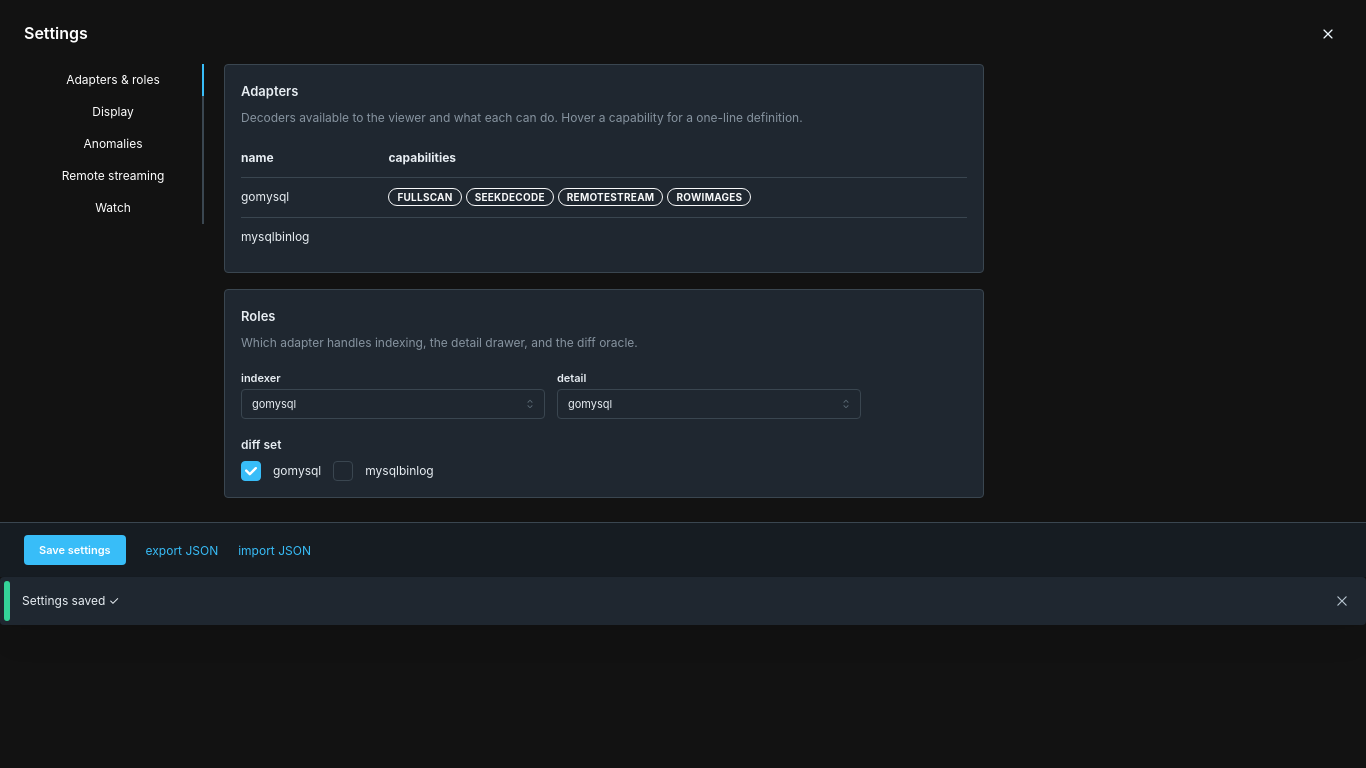
Test: SettingsView › switches to Remote streaming tab and shows host/password fields
This screenshot has width=1366, height=768.
Click the tab "Remote streaming" at (114, 176), box [24,160,204,192]
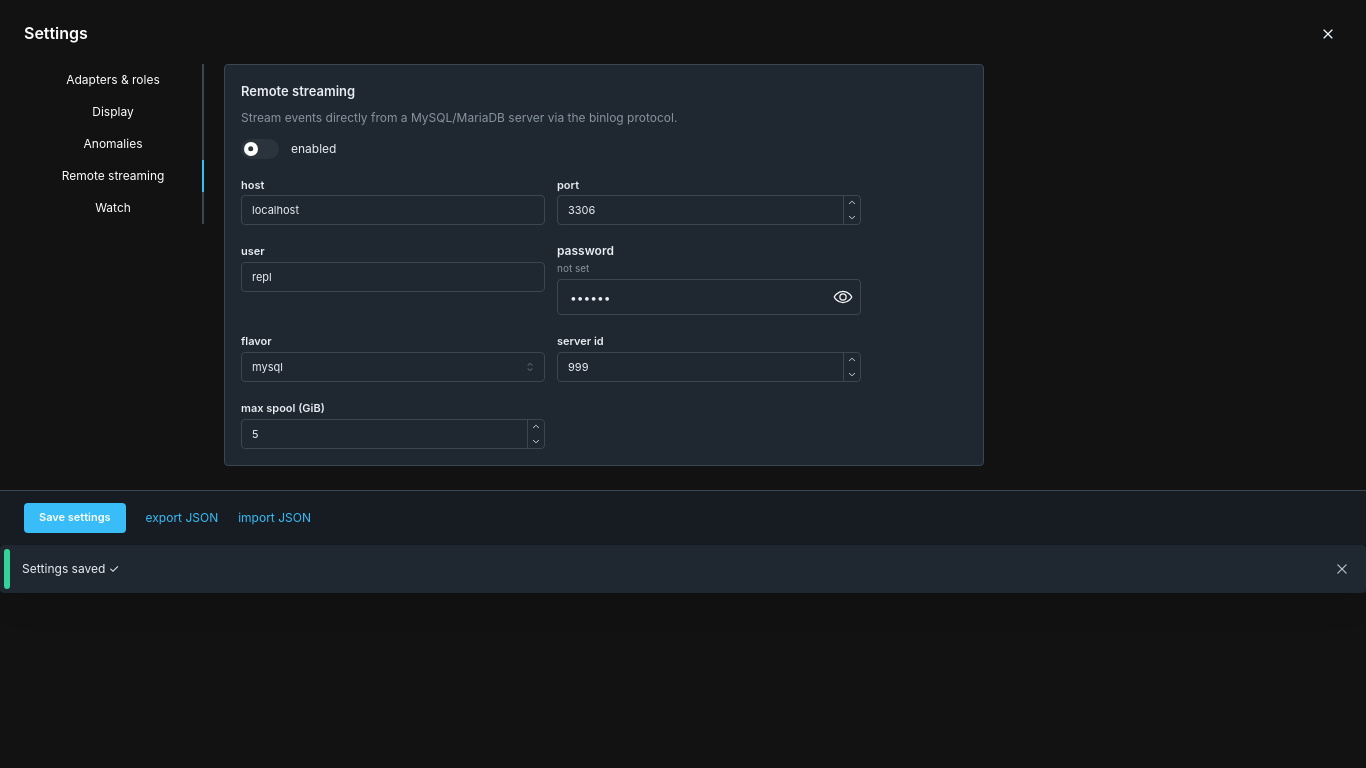
Expected: the password field labelled "password" is shown, [558,280,860,314]
